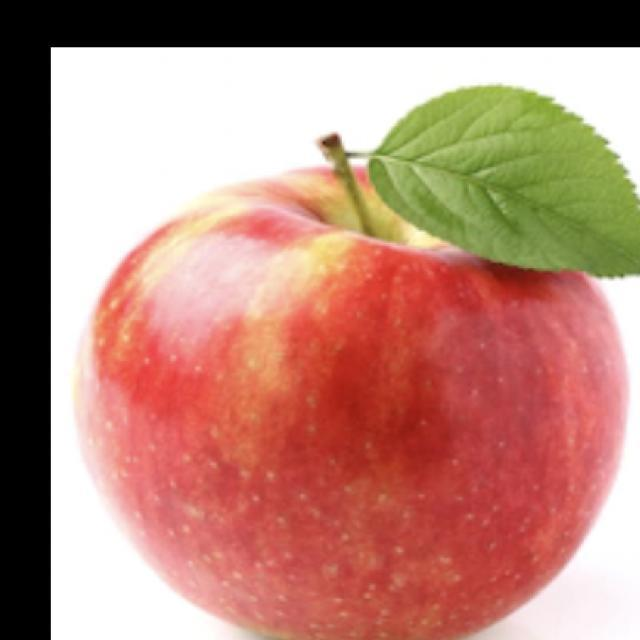Fresh Apple: (63, 152, 635, 640)
